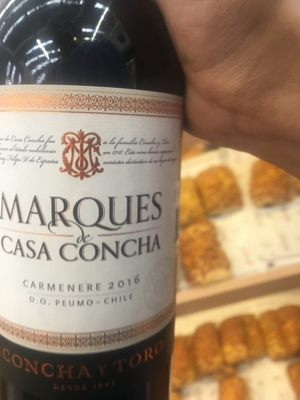marques de casa concha carmenere: (1, 10, 201, 399)
